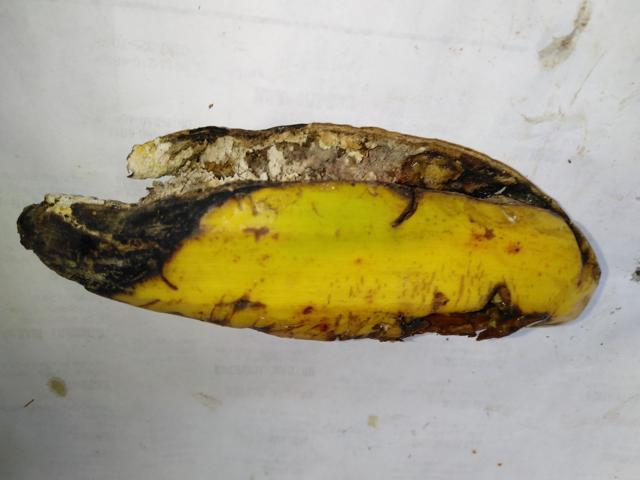rotten: (12, 84, 608, 365)
